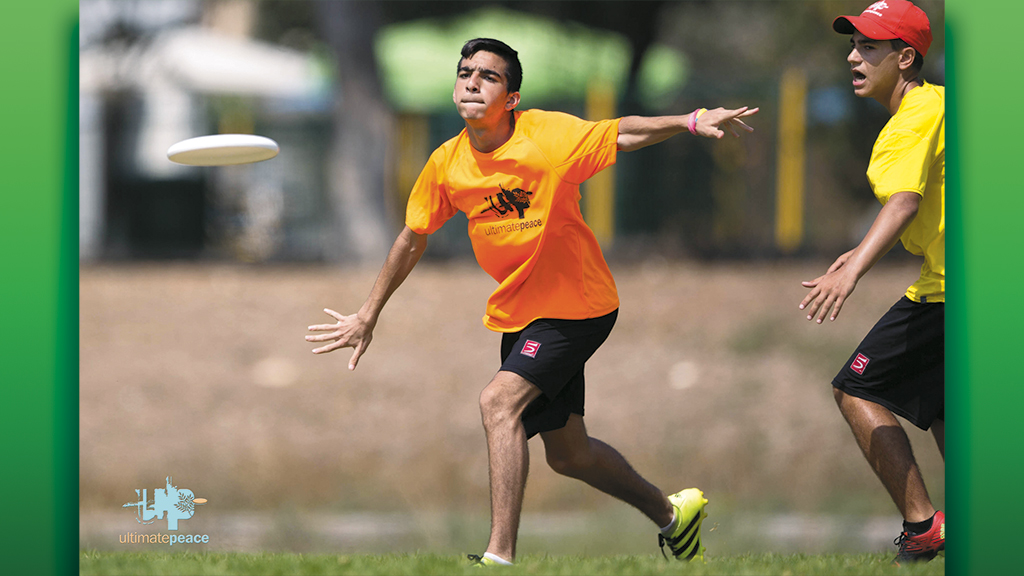disc: (162, 133, 293, 164)
